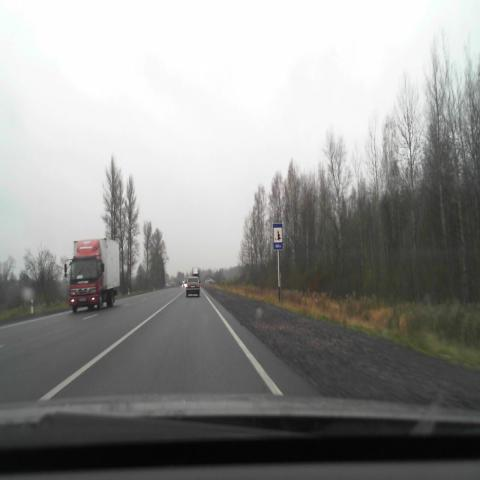7_11: (273, 223, 283, 250)
